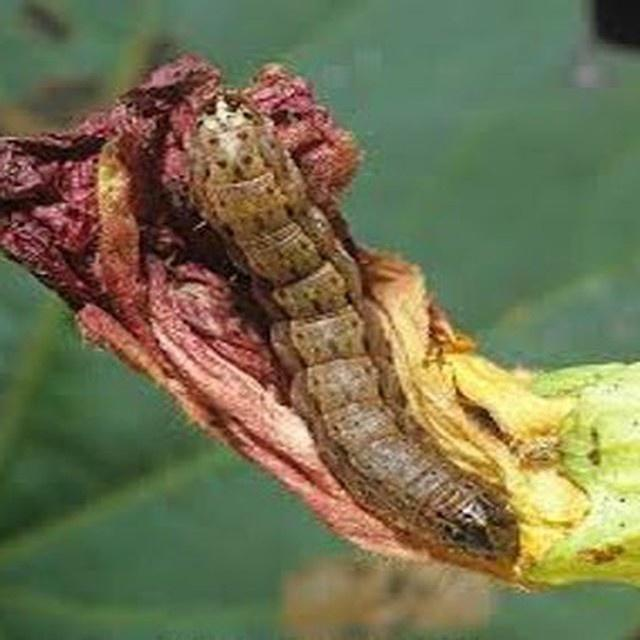gusano_cogollero: (204, 103, 516, 565)
